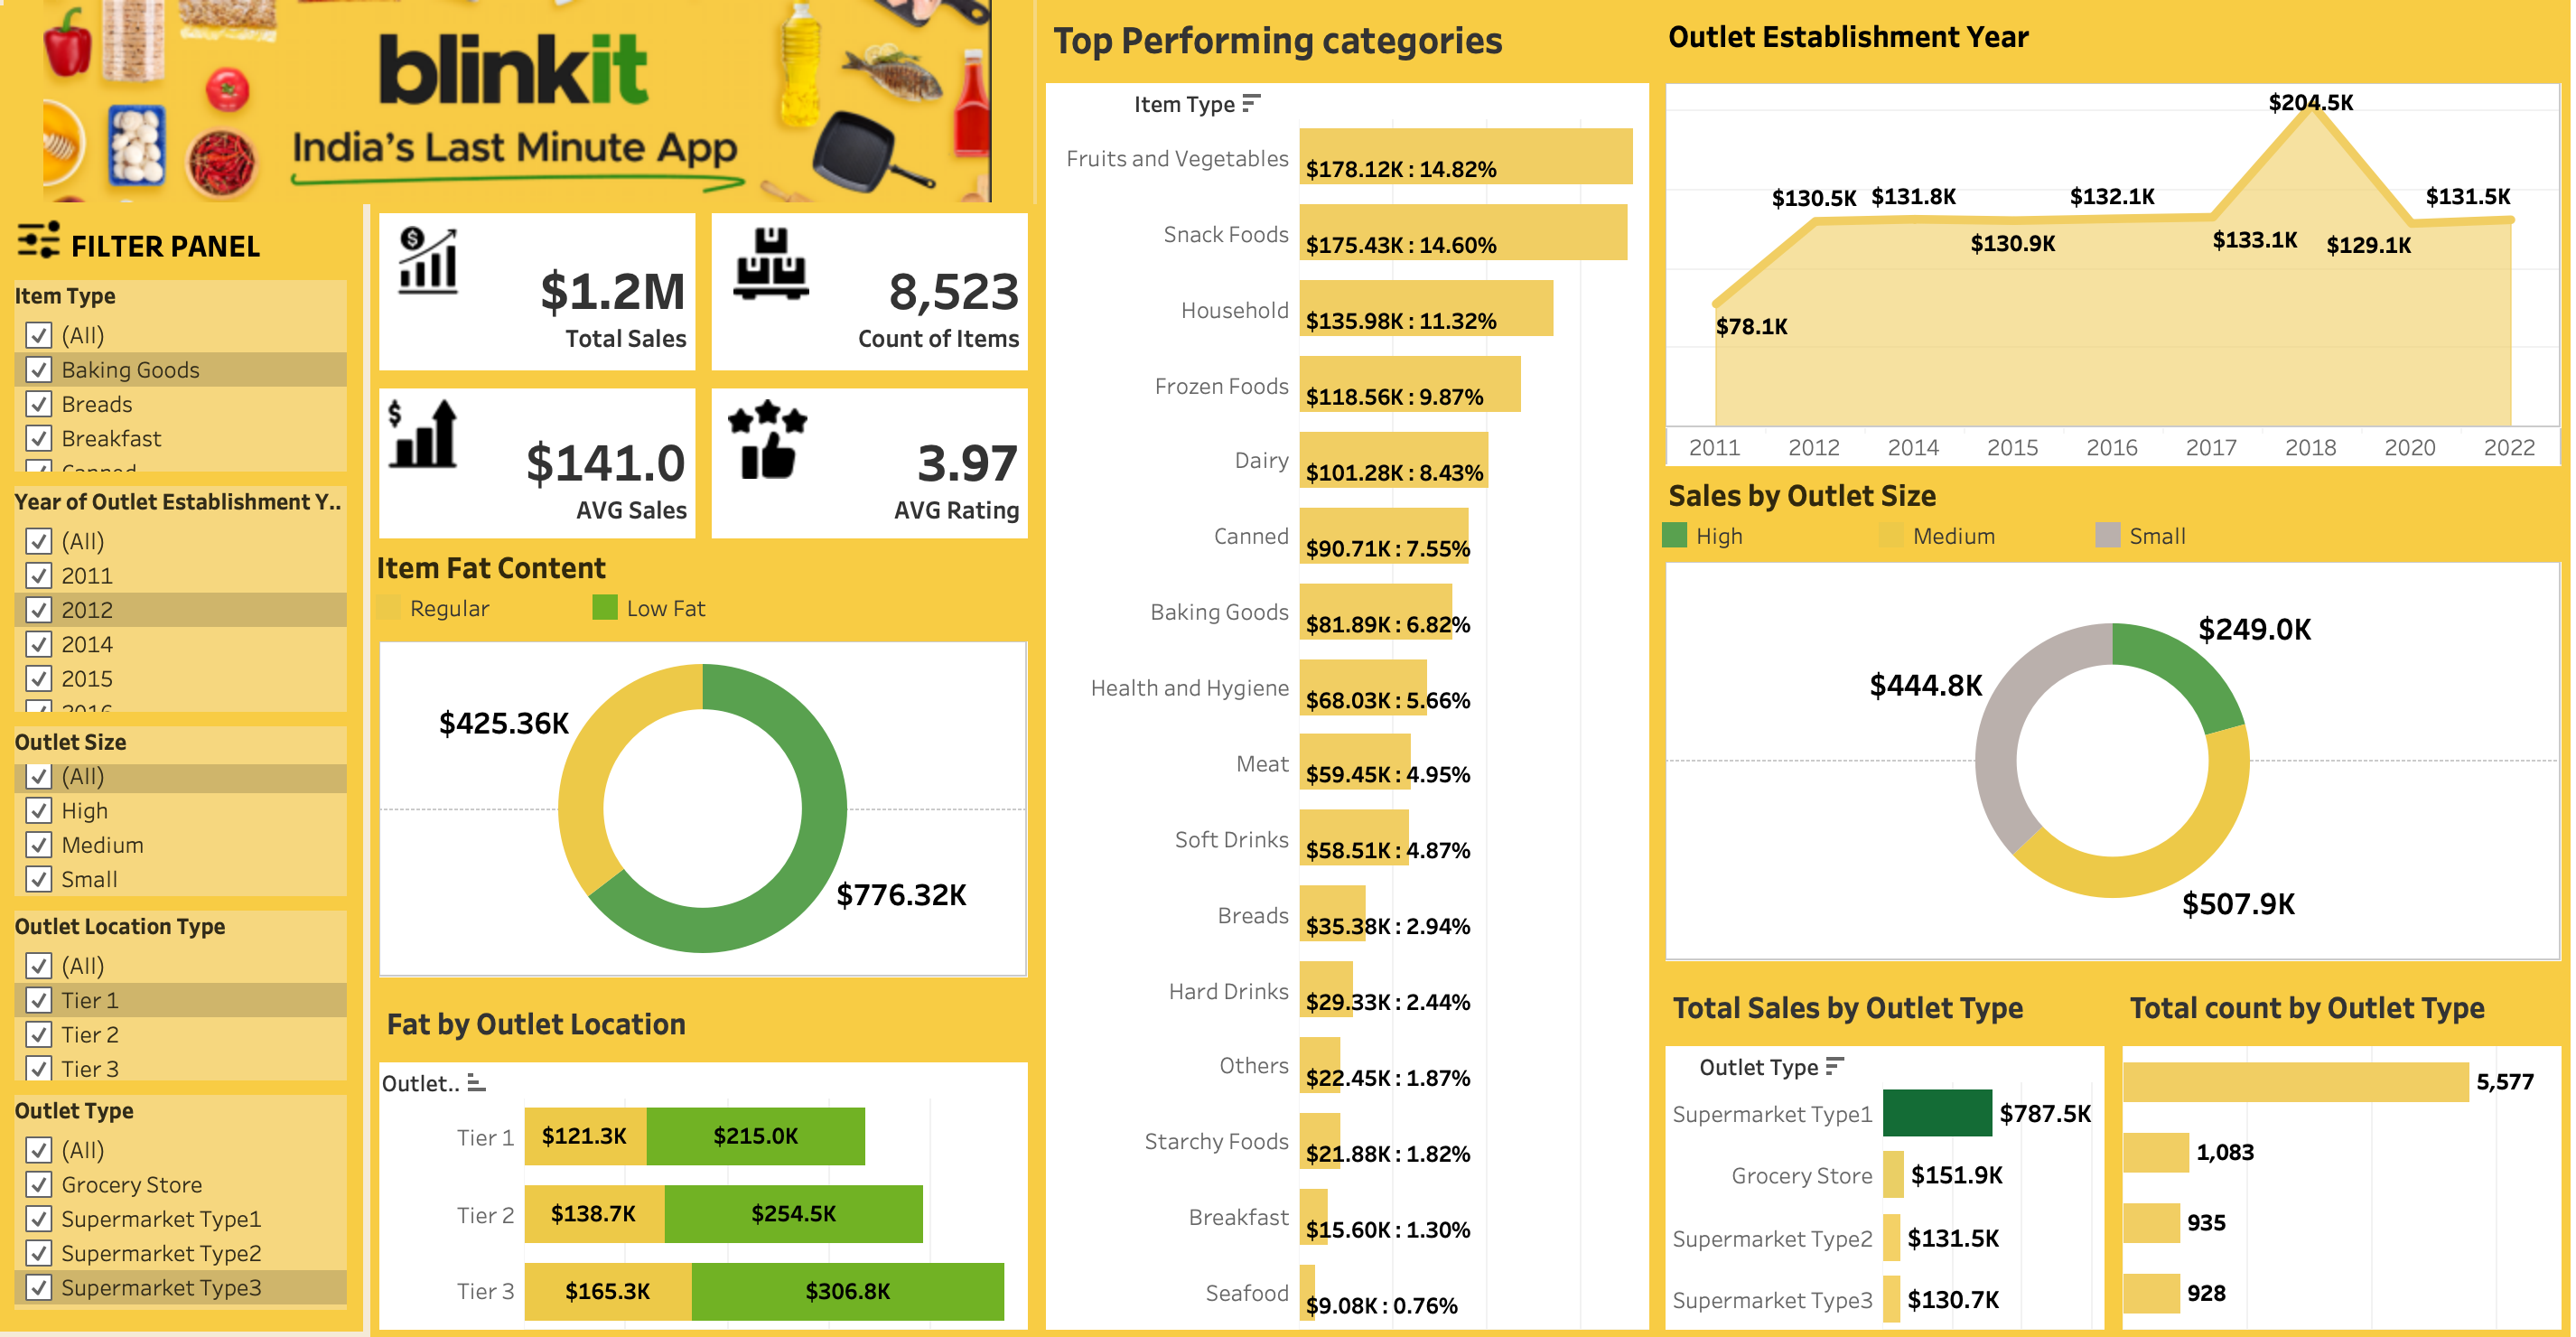

This screenshot's page, from the dashboard's own definition file:
{"tool":"tableau","page":{"name":"Dashboard 1","canvas":[1000,1000],"units":"permille","ordinal":0},"visuals":[{"type":"image","param":"Image/Screenshot 2025-09-28 at 11.31.42 AM.png","box":[10.3,10.6,396.2,150.4]},{"type":"worksheet","title":"TOP CATE","mark":"Automatic","rows":["Item Type"],"cols":["Sales"],"box":[406.6,10.6,237.5,978.9]},{"type":"text","box":[644.2,10.6,349.5,55.4]},{"type":"blank","box":[13.5,22.4,130.6,149.1]},{"type":"worksheet","title":"TOTALSALE GRAPH ","mark":"Area","rows":["Sales","Sales"],"cols":["Outlet Establishment Year"],"box":[644.2,66,349.5,292.9]},{"type":"worksheet","title":"Total Sales","mark":"Automatic","box":[151.2,161,127.7,128]},{"type":"worksheet","title":"count of items ","mark":"Automatic","box":[278.9,161,127.7,128]},{"type":"image","param":"Image/setting.png","box":[14.3,170.2,19.1,33]},{"type":"text","box":[13.5,171.5,130.6,39.6]},{"type":"image","param":"Image/Sales.png","box":[158.1,176.8,30.2,50.1]},{"type":"image","param":"Image/Items.png","box":[287.5,176.8,35,55.4]},{"type":"filter","title":"TOP CATE","param":"[federated.0btll290axgzgr1aiizal1dtfd4q].[none:Item Type:nk]","box":[13.5,211.1,130.6,150.4]},{"type":"worksheet","title":"avg sales","mark":"Automatic","box":[151.2,288.9,127.7,122.7]},{"type":"worksheet","title":"avg rating ","mark":"Automatic","box":[278.9,288.9,127.7,122.7]},{"type":"image","param":"Image/Avg Sales.png","box":[156.5,302.1,29.4,52.8]},{"type":"image","param":"Image/rating (1).png","box":[285.9,303.4,35,58.1]},{"type":"legend","title":"Sheet 10","param":"[federated.0btll290axgzgr1aiizal1dtfd4q].[none:Outlet Size:nk]","box":[644.2,358.8,349.5,56.7]},{"type":"filter","title":"TOTALSALE GRAPH ","param":"[federated.0btll290axgzgr1aiizal1dtfd4q].[yr:Outlet Establishment Year:ok]","box":[13.5,361.5,130.6,175.5]},{"type":"legend","title":"FAT BY OUTLET  LOCATION  ","param":"[federated.0btll290axgzgr1aiizal1dtfd4q].[none:Item Fat Content:nk]","box":[151.2,411.6,255.4,62]},{"type":"worksheet","title":"Sheet 10","mark":"Pie","rows":["Calculation_1440518620234149896","Calculation_1440518620234194954"],"box":[644.2,415.6,349.5,304.8]},{"type":"worksheet","title":"fat content","mark":"Pie","rows":["Calculation_1353613221160443906","Calculation_1353613221161058308"],"box":[151.2,473.6,255.4,258.6]},{"type":"filter","title":"Sheet 10","param":"[federated.0btll290axgzgr1aiizal1dtfd4q].[none:Outlet Size:nk]","box":[13.5,536.9,130.6,134.6]},{"type":"filter","title":"FAT BY OUTLET  LOCATION  ","param":"[federated.0btll290axgzgr1aiizal1dtfd4q].[none:Outlet Location Type:nk]","box":[13.5,671.5,130.6,134.6]},{"type":"worksheet","title":"TOTAPL SALES BY OUTLET TYPE ","mark":"Bar","rows":["Outlet Type"],"cols":["Sales"],"box":[644.2,720.3,175.1,269.1]},{"type":"worksheet","title":"TOTAPL SALES BY OUTLET TYPE (3)","mark":"Bar","rows":["Outlet Type"],"cols":["Item Identifier"],"box":[819.3,720.3,174.3,269.1]},{"type":"worksheet","title":"FAT BY OUTLET  LOCATION  ","mark":"Automatic","rows":["Outlet Location Type"],"cols":["Sales"],"box":[151.3,732.2,255.2,257.3]},{"type":"filter","title":"TOTAPL SALES BY OUTLET TYPE ","param":"[federated.0btll290axgzgr1aiizal1dtfd4q].[none:Outlet Type:nk]","box":[13.5,806.1,130.6,167.5]}]}

Visuals, with their boxes on the dashboard's canvas, which has no fixed pixel size, in thousandths of its width and height (x1, y1, x2, y2). These are canvas units, not pixel positions in the 2576x1337 screenshot, which may show the page scaled, cropped or inside an application window:
image: <region>10, 11, 406, 161</region>
"TOP CATE" worksheet: <region>407, 11, 644, 990</region>
text: <region>644, 11, 994, 66</region>
blank: <region>14, 22, 144, 172</region>
"TOTALSALE GRAPH " worksheet (Area marks): <region>644, 66, 994, 359</region>
"Total Sales" worksheet: <region>151, 161, 279, 289</region>
"count of items " worksheet: <region>279, 161, 407, 289</region>
image: <region>14, 170, 33, 203</region>
text: <region>14, 172, 144, 211</region>
image: <region>158, 177, 188, 227</region>
image: <region>288, 177, 322, 232</region>
"TOP CATE" filter: <region>14, 211, 144, 362</region>
"avg sales" worksheet: <region>151, 289, 279, 412</region>
"avg rating " worksheet: <region>279, 289, 407, 412</region>
image: <region>156, 302, 186, 355</region>
image: <region>286, 303, 321, 362</region>
"Sheet 10" legend: <region>644, 359, 994, 416</region>
"TOTALSALE GRAPH " filter: <region>14, 362, 144, 537</region>
"FAT BY OUTLET  LOCATION  " legend: <region>151, 412, 407, 474</region>
"Sheet 10" worksheet (Pie marks): <region>644, 416, 994, 720</region>
"fat content" worksheet (Pie marks): <region>151, 474, 407, 732</region>
"Sheet 10" filter: <region>14, 537, 144, 672</region>
"FAT BY OUTLET  LOCATION  " filter: <region>14, 672, 144, 806</region>
"TOTAPL SALES BY OUTLET TYPE " worksheet (Bar marks): <region>644, 720, 819, 989</region>
"TOTAPL SALES BY OUTLET TYPE (3)" worksheet (Bar marks): <region>819, 720, 994, 989</region>
"FAT BY OUTLET  LOCATION  " worksheet: <region>151, 732, 406, 990</region>
"TOTAPL SALES BY OUTLET TYPE " filter: <region>14, 806, 144, 974</region>
